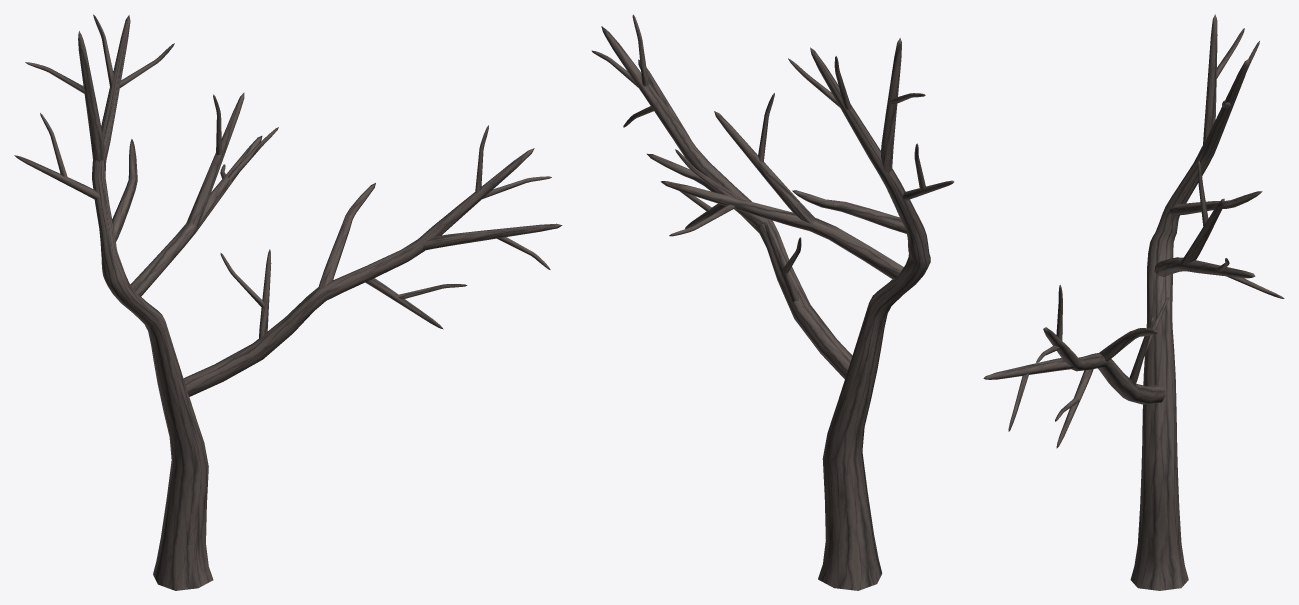
Rendered from DeadTree_6.glb.
3 renders of one model, left to right at view 1: azimuth 30°, elevation 25°; view 2: azimuth 150°, elevation 25°; view 3: azimuth 270°, elevation 25°, orthographic. The views are drawn at different scales.
Parts seen in each view (by area): view 1: DeadTree_6; view 2: DeadTree_6; view 3: DeadTree_6.
Boxes of the visible parts, x1,y1,x2,y2 form: DeadTree_6: (14, 14, 562, 590); DeadTree_6: (591, 14, 954, 590); DeadTree_6: (983, 14, 1284, 590).
Size of the model in its own units: 5.41 by 6.41 by 3.3.
Materials: 1 (1 with a texture image).
